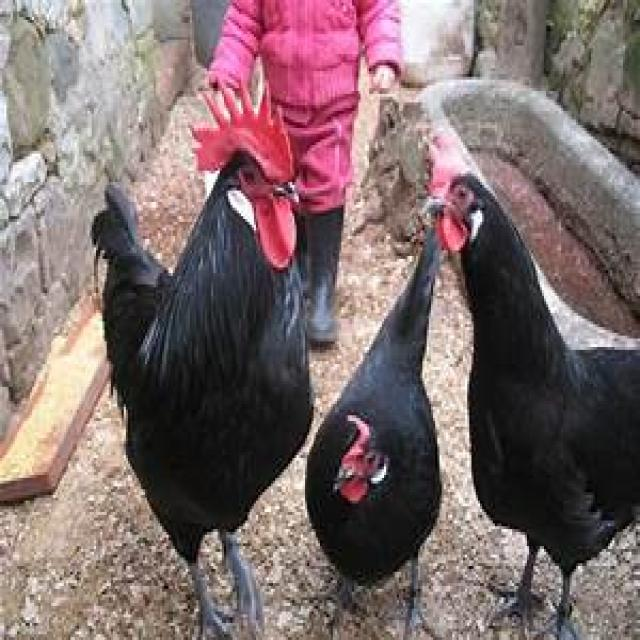animal: (88, 80, 314, 637), (422, 131, 640, 639), (303, 196, 448, 637)
